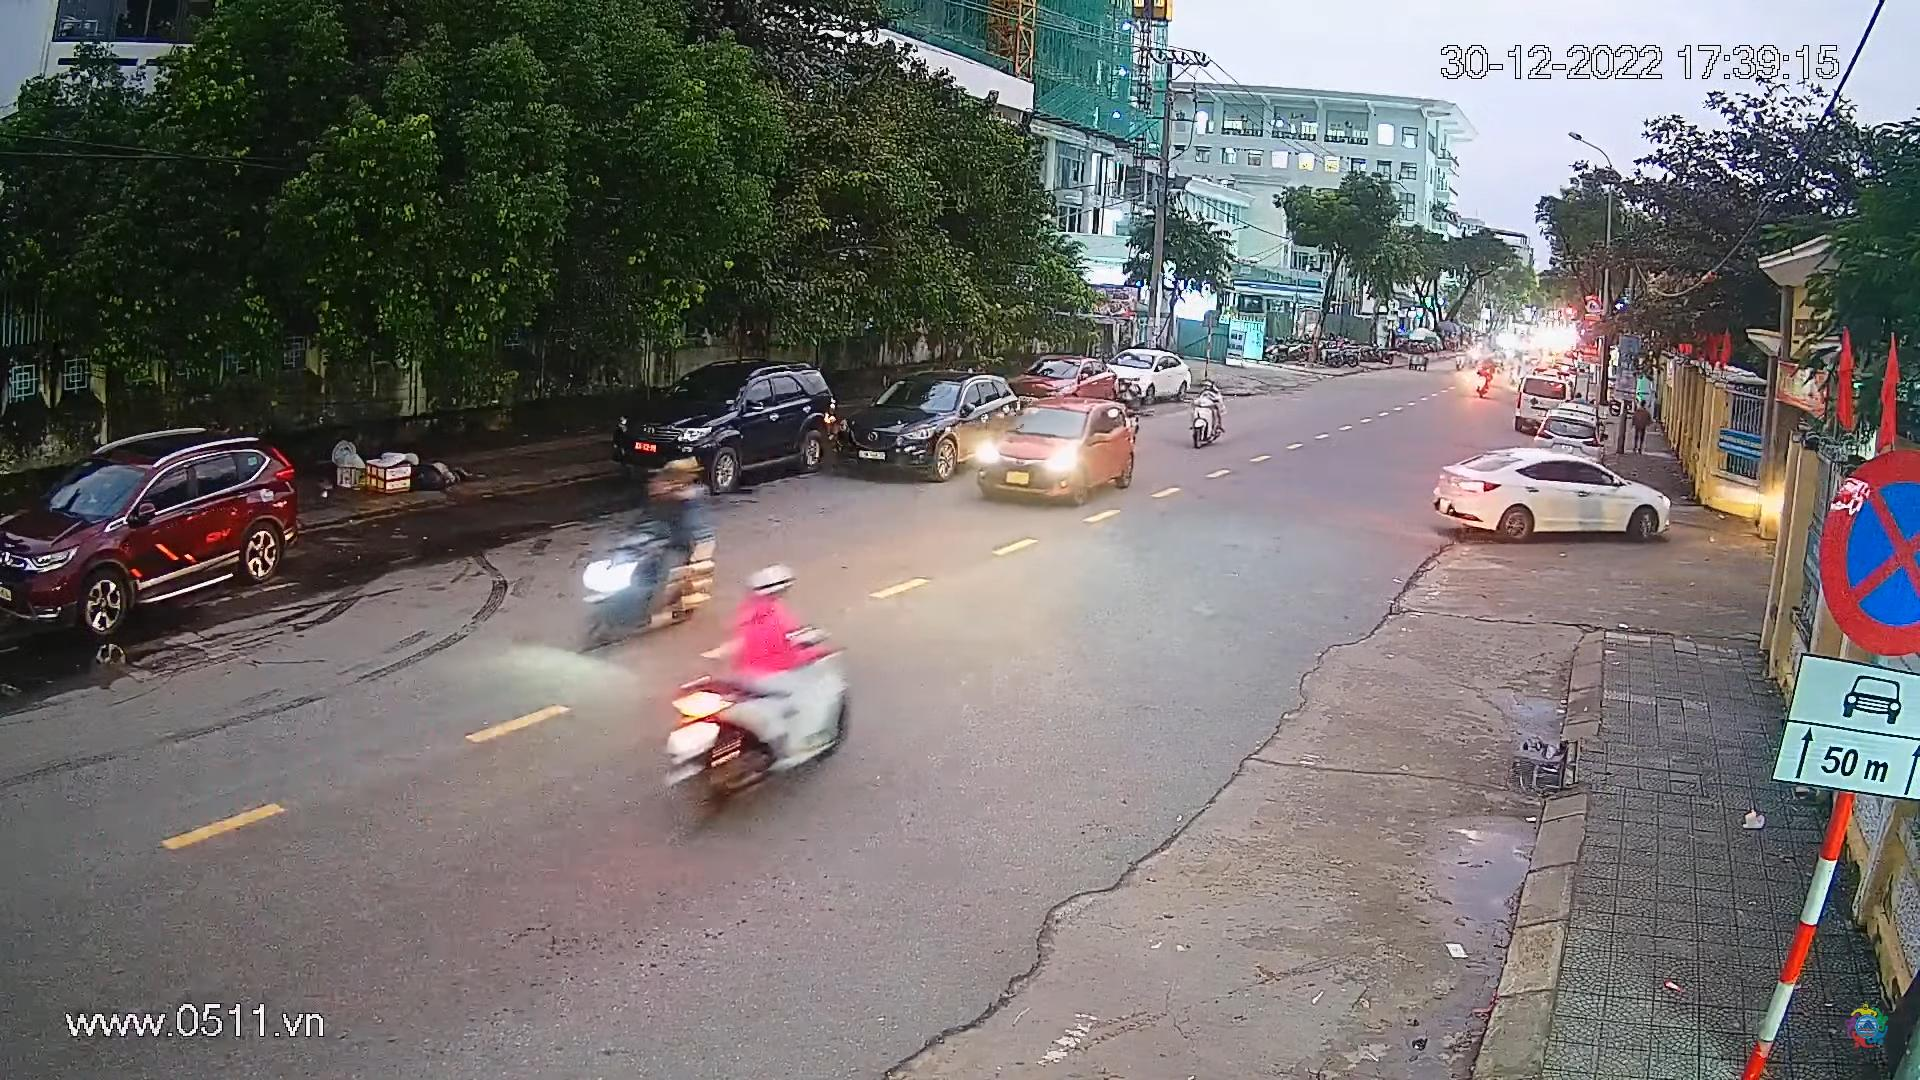car: (0, 421, 309, 657), (611, 351, 851, 492), (1419, 440, 1681, 554), (976, 393, 1154, 510), (839, 371, 1017, 483), (1010, 355, 1117, 406), (1104, 347, 1193, 405), (1514, 369, 1573, 434), (1532, 413, 1607, 462)
motorcycle: (655, 558, 861, 819), (578, 451, 717, 661), (1187, 380, 1226, 452)
